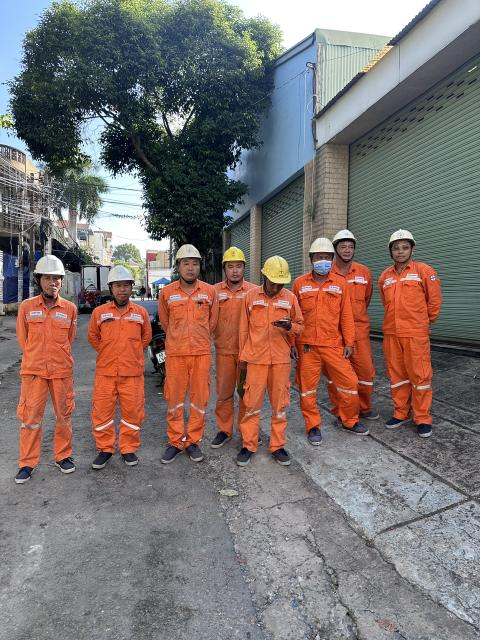helmet: (28, 251, 70, 284), (259, 251, 292, 289), (101, 260, 138, 287), (383, 223, 419, 250), (303, 234, 336, 258), (169, 240, 203, 263), (222, 243, 246, 267), (333, 226, 358, 247)
shoes: (228, 438, 254, 469), (204, 426, 234, 452), (337, 418, 375, 438), (301, 422, 326, 452), (85, 449, 119, 471), (267, 443, 295, 469), (385, 406, 412, 432), (181, 438, 206, 463), (158, 440, 180, 468), (411, 415, 433, 443), (11, 465, 40, 486), (54, 455, 81, 475), (237, 430, 266, 448), (119, 449, 144, 469), (358, 404, 380, 423), (331, 409, 347, 428)
